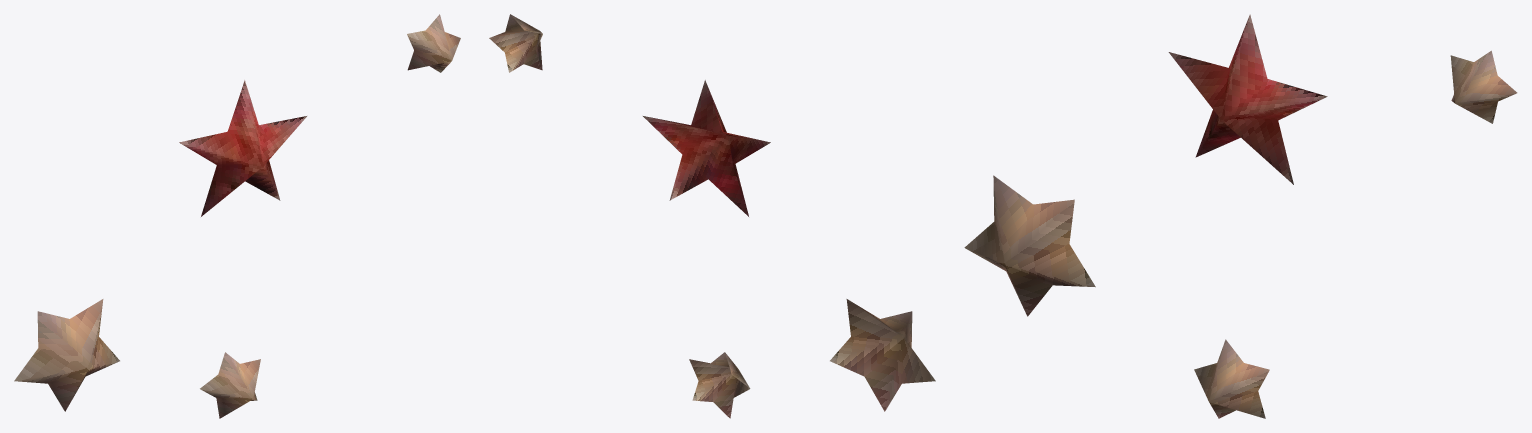
3 renders of one model, left to right at view 1: azimuth 30°, elevation 25°; view 2: azimuth 150°, elevation 25°; view 3: azimuth 330°, elevation 25°, orthographic. The views are drawn at different scales.
Parts seen in each view (by area): view 1: model_Object04; view 2: model_Object04; view 3: model_Object04.
Boxes of the visible parts, x1=… form: model_Object04: x1=14, y1=14, x2=460, y2=418; model_Object04: x1=489, y1=14, x2=935, y2=418; model_Object04: x1=964, y1=14, x2=1517, y2=418.
Bounding box in the file's own units: 1.55 × 1.16 × 0.1251.
Materials: 1 (1 with a texture image).
